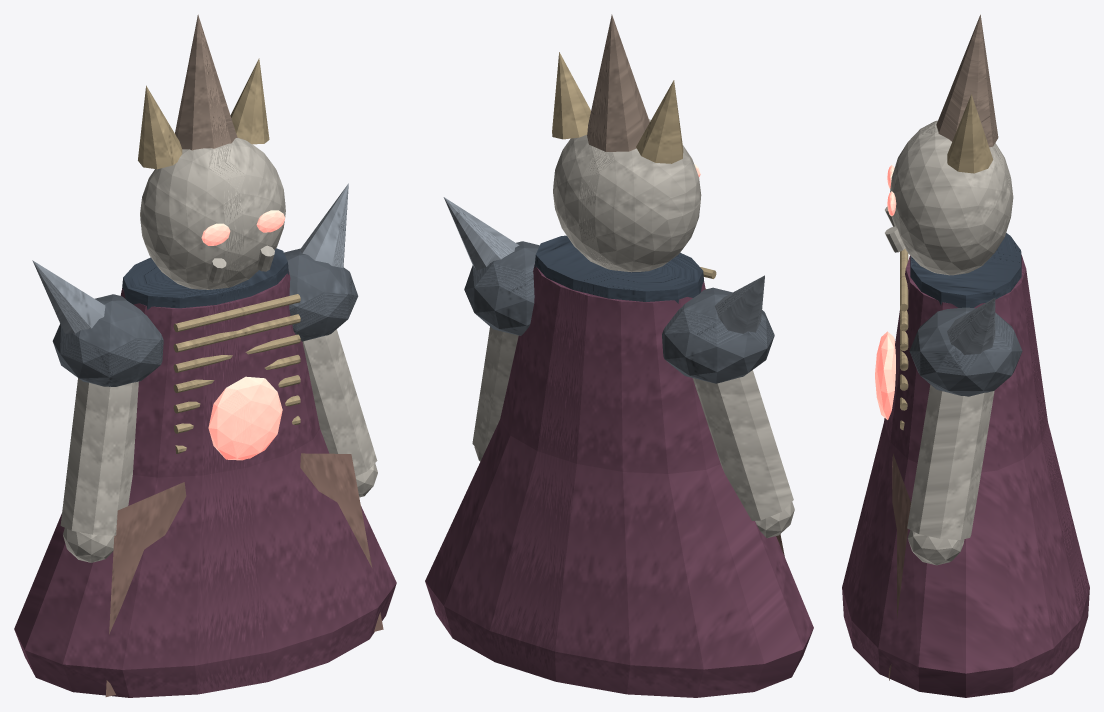
Rendered from lich_king.glb.
3 renders of one model, left to right at view 1: azimuth 30°, elevation 25°; view 2: azimuth 150°, elevation 25°; view 3: azimuth 270°, elevation 25°, orthographic. The views are drawn at different scales.
Parts seen in each view (by area): view 1: wine, bone, iron, gold, rust, glowred, bronze, steel, blackiron; view 2: wine, bone, iron, blackiron, bronze, gold, steel; view 3: wine, bone, iron, blackiron, bronze, gold, steel, glowred, rust.
Boxes of the visible parts, x1=… form: wine: x1=14, y1=271, x2=396, y2=697; bone: x1=60, y1=138, x2=377, y2=562; iron: x1=52, y1=248, x2=358, y2=386; gold: x1=138, y1=58, x2=300, y2=453; rust: x1=105, y1=453, x2=383, y2=696; glowred: x1=201, y1=210, x2=285, y2=460; bronze: x1=175, y1=14, x2=237, y2=150; steel: x1=32, y1=183, x2=348, y2=333; blackiron: x1=122, y1=248, x2=288, y2=309; wine: x1=425, y1=264, x2=813, y2=697; bone: x1=472, y1=119, x2=794, y2=538; iron: x1=464, y1=241, x2=774, y2=383; blackiron: x1=534, y1=235, x2=703, y2=303; bronze: x1=587, y1=14, x2=649, y2=151; gold: x1=552, y1=52, x2=716, y2=289; steel: x1=443, y1=197, x2=764, y2=333; wine: x1=842, y1=254, x2=1089, y2=697; bone: x1=885, y1=120, x2=1013, y2=565; iron: x1=909, y1=233, x2=1022, y2=396; blackiron: x1=910, y1=233, x2=1021, y2=307; bronze: x1=936, y1=14, x2=998, y2=147; gold: x1=900, y1=94, x2=993, y2=430; steel: x1=947, y1=298, x2=995, y2=354; glowred: x1=875, y1=165, x2=896, y2=419; rust: x1=888, y1=453, x2=910, y2=680.
Bounding box in the file's own units: 2.24 × 3.65 × 1.36.
Materials: 9 (9 with a texture image).
